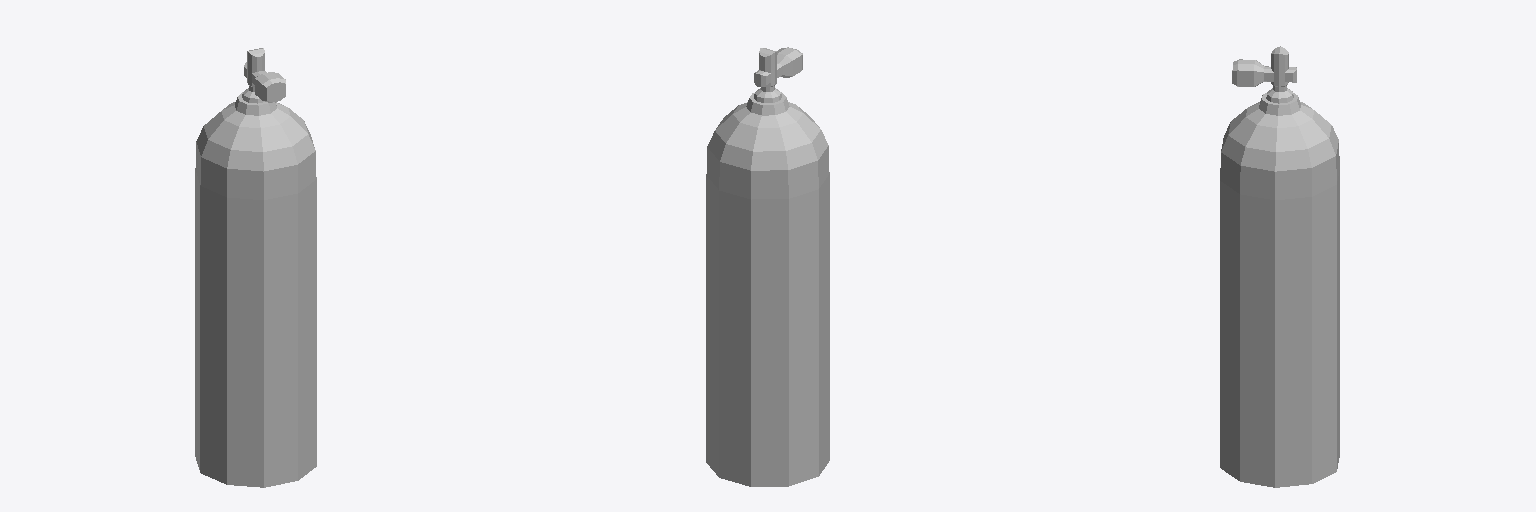
The model's file is Tank7.obj.
3 renders of one model, left to right at view 1: azimuth 30°, elevation 25°; view 2: azimuth 150°, elevation 25°; view 3: azimuth 270°, elevation 25°, orthographic.
Parts seen in each view (by area): view 1: Tank7; view 2: Tank7; view 3: Tank7.
Part boxes in pixels (x1,y1,x2,y2): Tank7: (195,48,316,487); Tank7: (706,47,829,486); Tank7: (1220,46,1339,487).
Size of the model in its own units: 41.44 by 153 by 40.4.